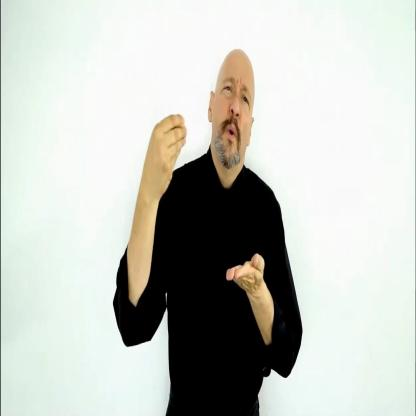Expensive: (141, 109, 269, 313)
